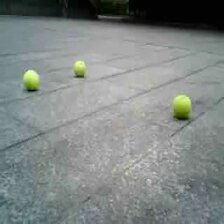tennis: (172, 95, 191, 118), (23, 69, 39, 89), (73, 58, 86, 76)
